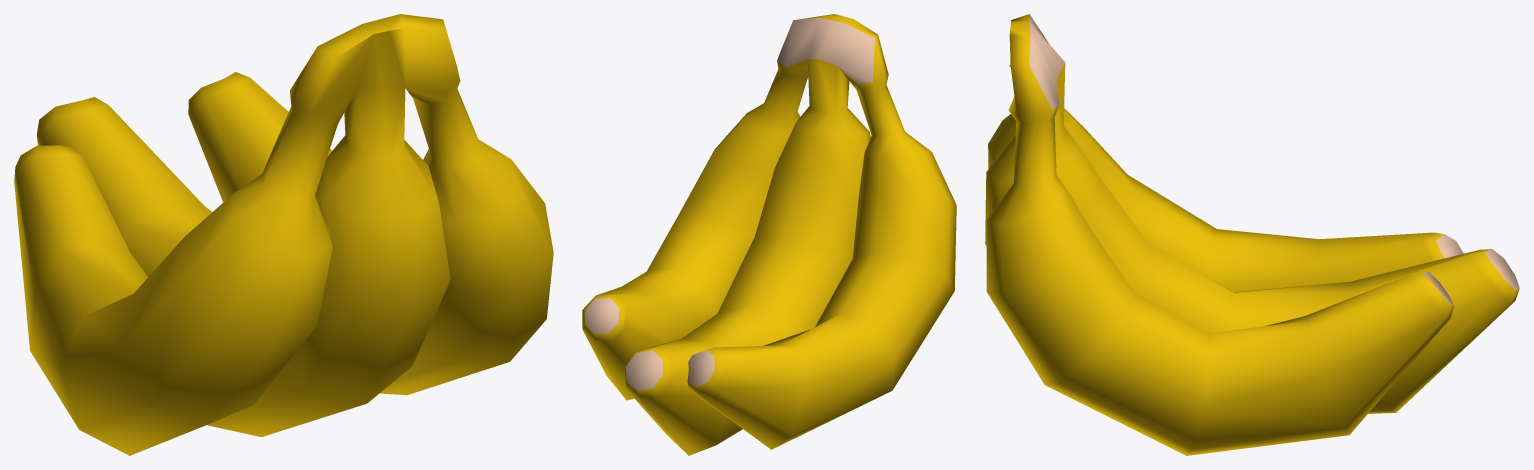
The model's file is Banana.fbx.
3 renders of one model, left to right at view 1: azimuth 30°, elevation 25°; view 2: azimuth 150°, elevation 25°; view 3: azimuth 270°, elevation 25°, orthographic. The views are drawn at different scales.
Visible parts, largest first — view 1: Banana; view 2: Banana; view 3: Banana.
Boxes of the visible parts, x1=… form: Banana: x1=14, y1=14, x2=553, y2=455; Banana: x1=582, y1=14, x2=956, y2=455; Banana: x1=985, y1=14, x2=1519, y2=455.
Size of the model in its own units: 192 by 221 by 272.
